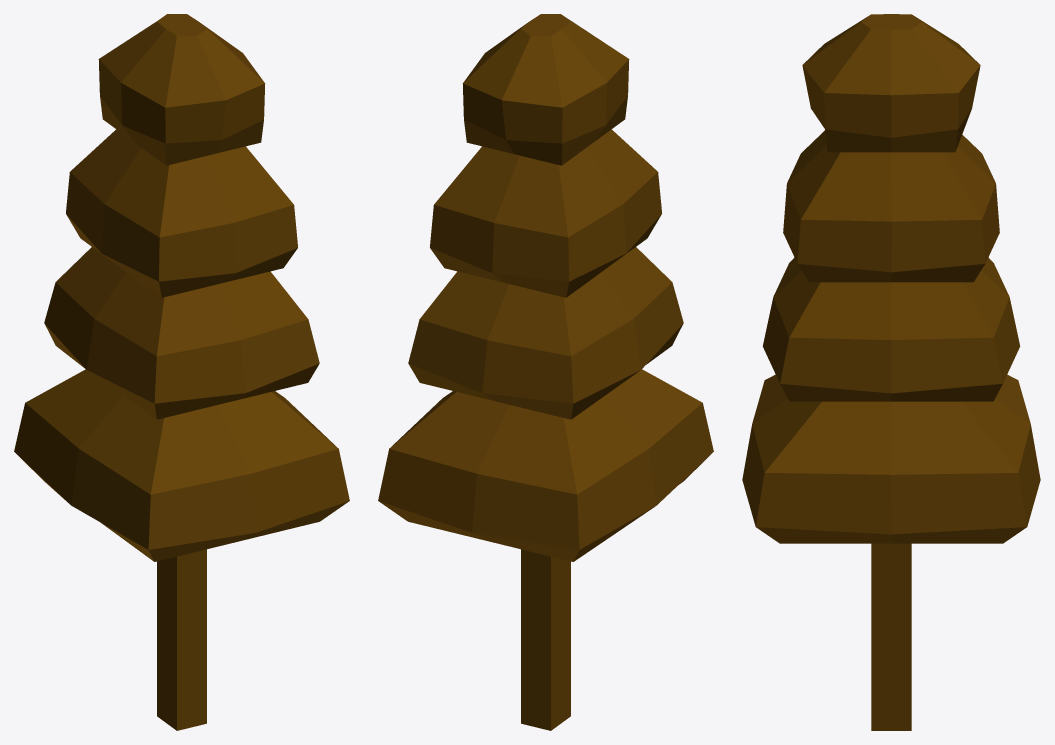
Rendered from puu_02.fbx.
3 renders of one model, left to right at view 1: azimuth 30°, elevation 25°; view 2: azimuth 150°, elevation 25°; view 3: azimuth 270°, elevation 25°, orthographic.
Parts seen in each view (by area): view 1: puu_02; view 2: puu_02; view 3: puu_02.
Part boxes in pixels (x1,y1,x2,y2): puu_02: (14,14,349,730); puu_02: (378,14,713,730); puu_02: (742,14,1040,730).
Size of the model in its own units: 854 by 2564 by 988.
